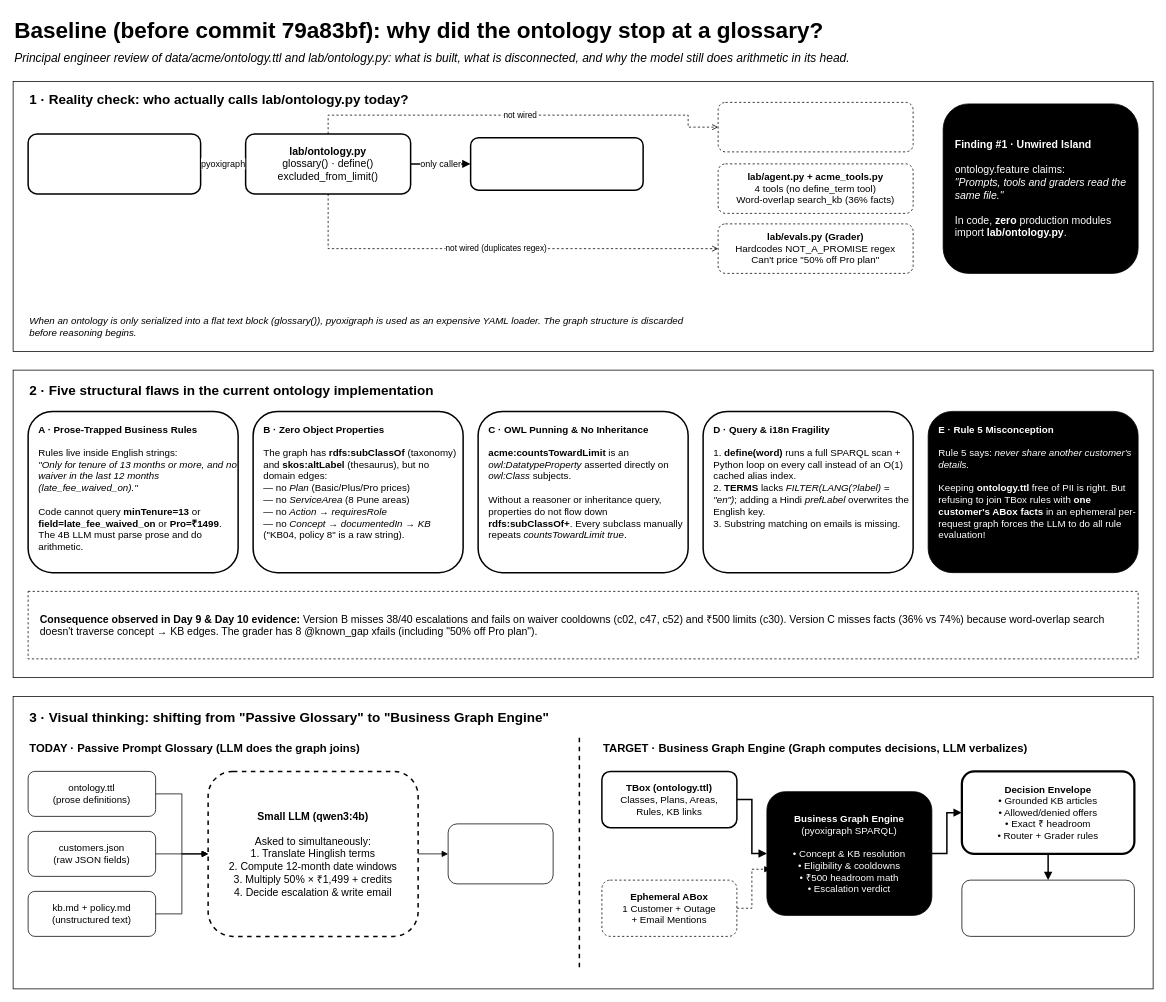
The diagram is 1166 pixels wide and 1002 high, and some of its shapes have lost their labels. Here are the shapes that lost their labels. From the top down, the box of each, then its label:
(717, 102, 913, 152): lab/version_b.py Hardcodes SYSTEM + policy.md Uses INTENT_KB oracle dict
(27, 133, 201, 194): data/acme/ontology.ttl 15 OWL classes · 3 datatype props 0 object properties
(470, 136, 644, 190): tests/test_ontology.py 16 BDD assertions pass ✓
(447, 823, 553, 884): 54% Safe 38/40 Esc. Missed
(961, 879, 1134, 936): LLM + Grader Drafts polite reply from pre-computed decisions
